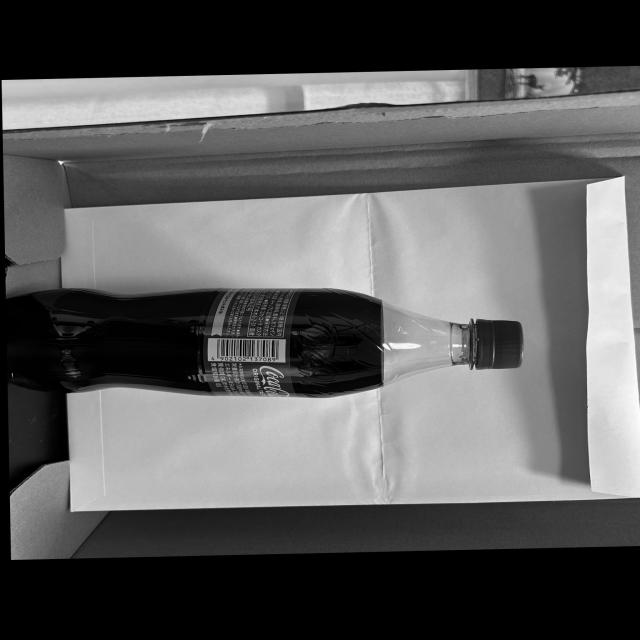high: (7, 288, 522, 399)
